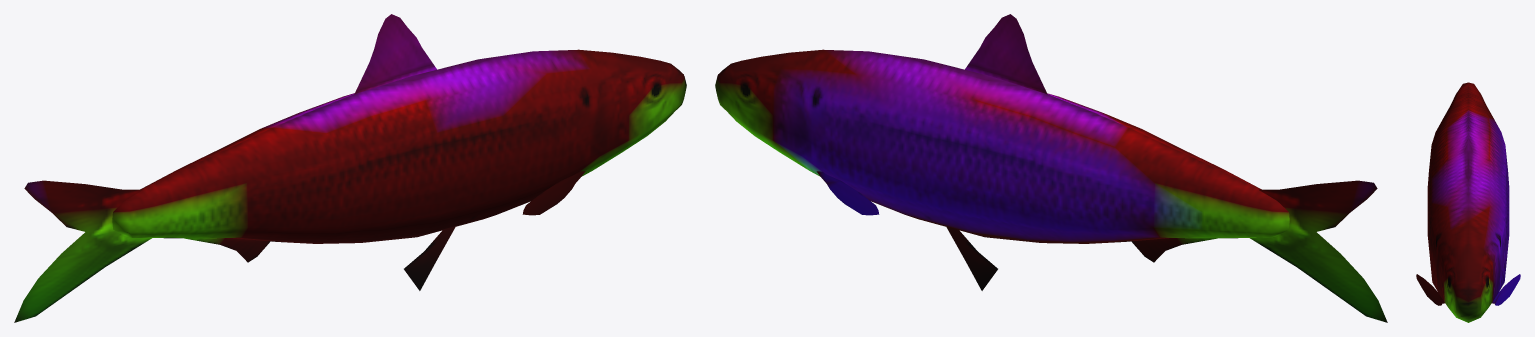
The model's file is atlantic_herring.glb.
3 views of the same model, side by side, from view 1: azimuth 30°, elevation 25°; view 2: azimuth 150°, elevation 25°; view 3: azimuth 270°, elevation 25° (orthographic). The views are drawn at different scales.
Visible parts, largest first — view 1: AtlanticHerring; view 2: AtlanticHerring; view 3: AtlanticHerring.
Boxes of the visible parts, x1,y1,x2,y2 form: AtlanticHerring: (14,14,686,322); AtlanticHerring: (715,14,1387,322); AtlanticHerring: (1416,82,1520,322).
Bounding box in the file's own units: 1 × 0.3842 × 0.1748.
1 material, 1 textured.
